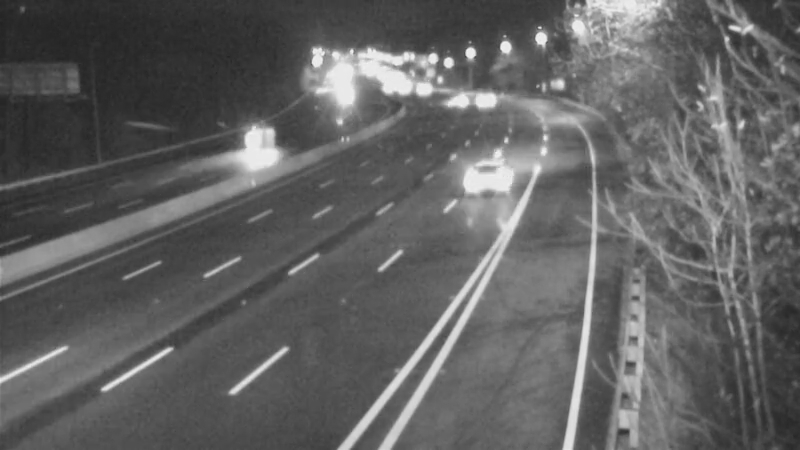vehicle: (446, 137, 526, 217), (396, 67, 446, 117), (468, 71, 518, 121), (429, 75, 479, 125), (230, 118, 280, 168)
